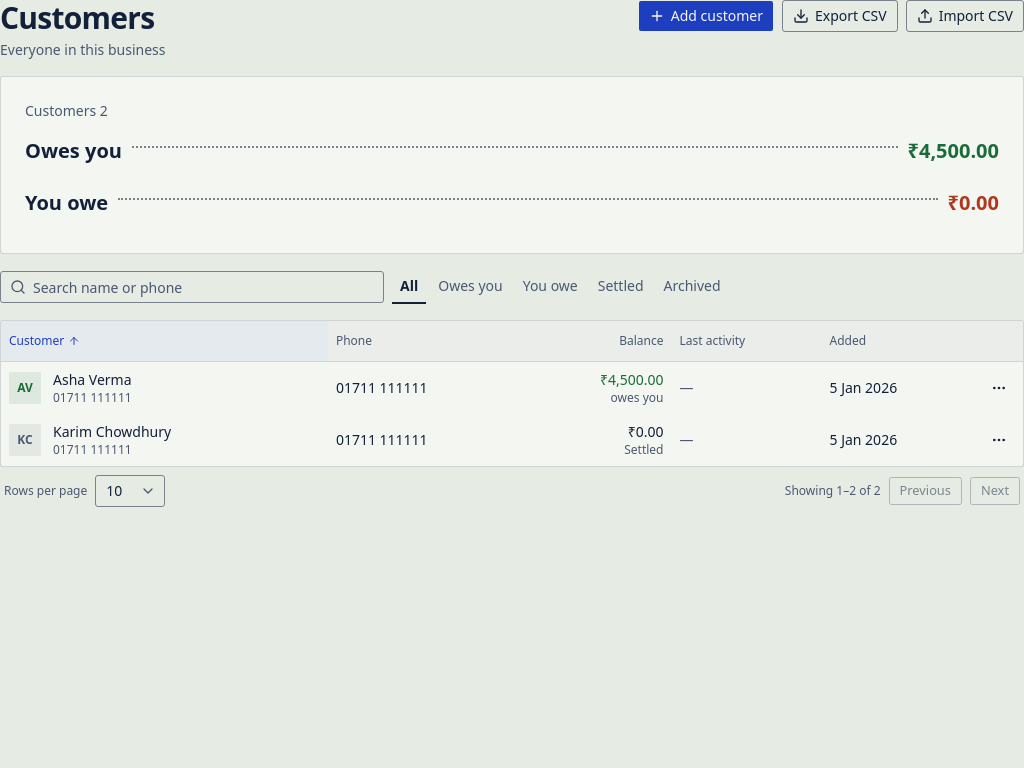
Test case: S-30 archive, restore and delete › uses the singular when the customer has exactly one transaction
The image size is (1024, 768).
Click the button named "Actions for Karim Chowdhury" at (999, 440), box [983, 424, 1015, 456]
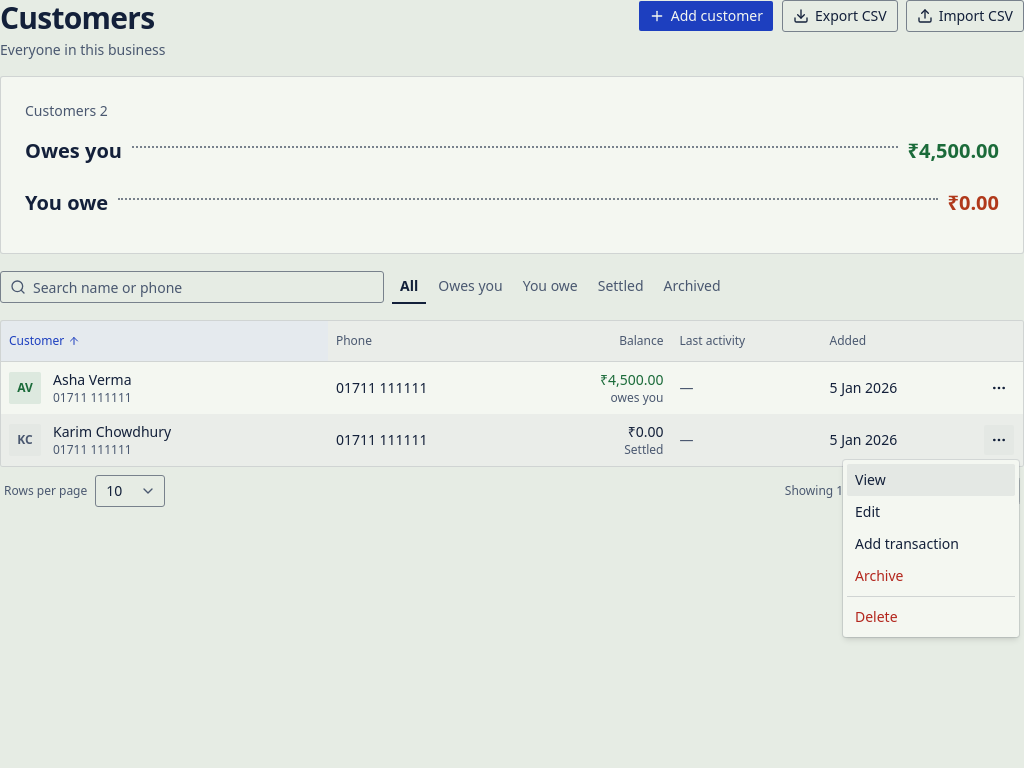
Click the menu item "Delete" at (931, 617), box [847, 601, 1015, 633]
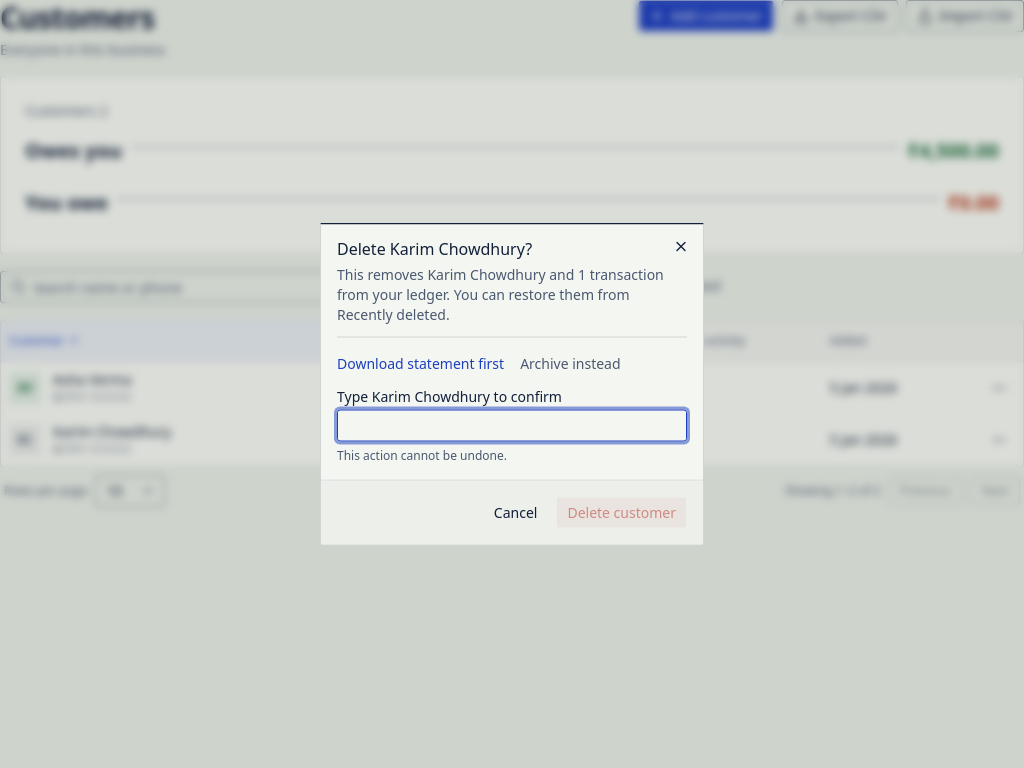
Result: the text "This removes Karim Chowdhury and 1 transaction from your ledger" is shown at [337, 264, 664, 324]
